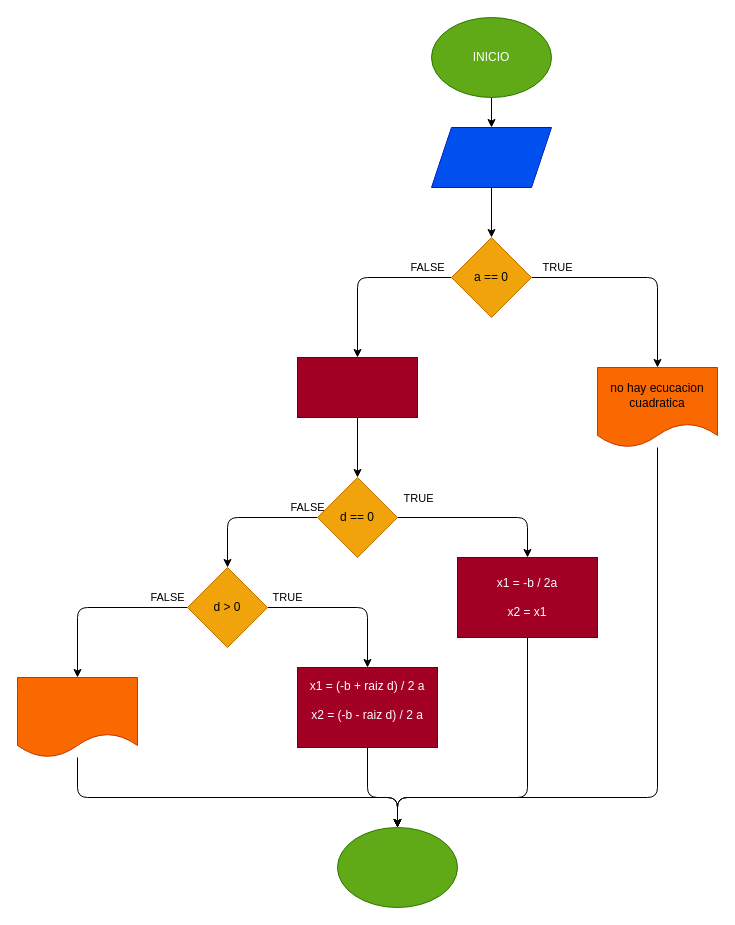
This 735x925 diagram has some shape labels left out. Each missing label, with the centre of its shape:
a , b , c: the point at 491,157
d = b2 -4*a*c: the point at 357,387
FIN: the point at 397,867
no hay solucion: the point at 77,717
